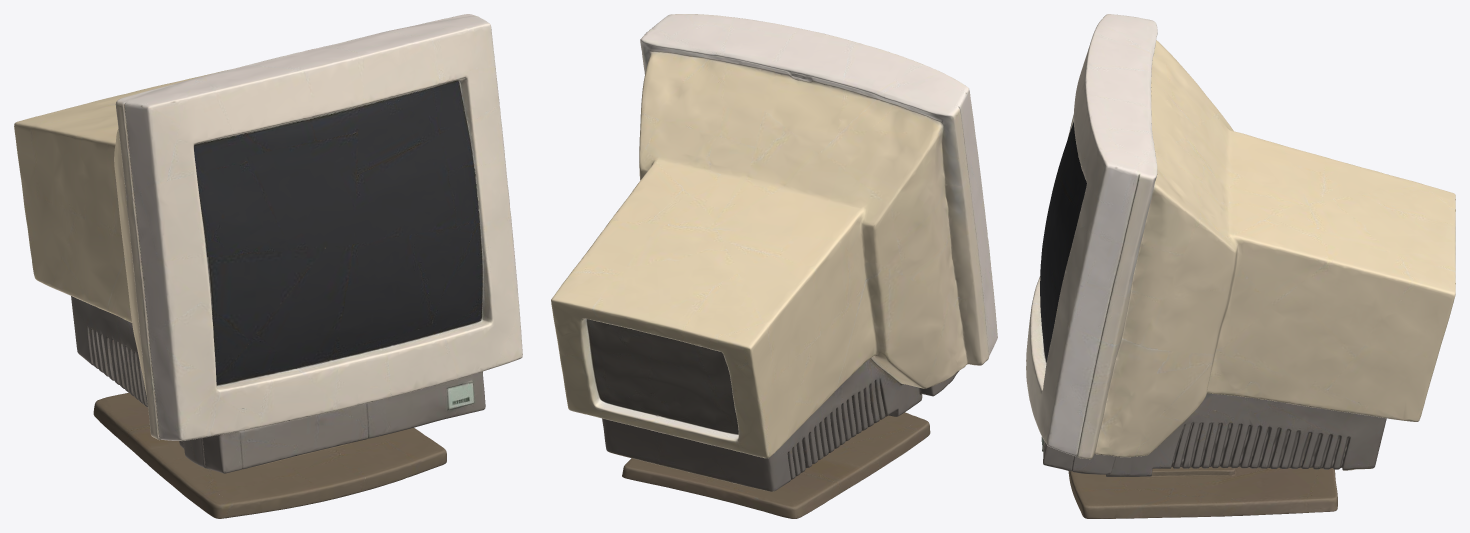
File: crt_vintage.glb
3 renders of one model, left to right at view 1: azimuth 30°, elevation 25°; view 2: azimuth 150°, elevation 25°; view 3: azimuth 270°, elevation 25°, orthographic. The views are drawn at different scales.
Bounding box in the file's own units: 1.65 × 1.88 × 1.89.
Materials: 1 (1 with a texture image).
